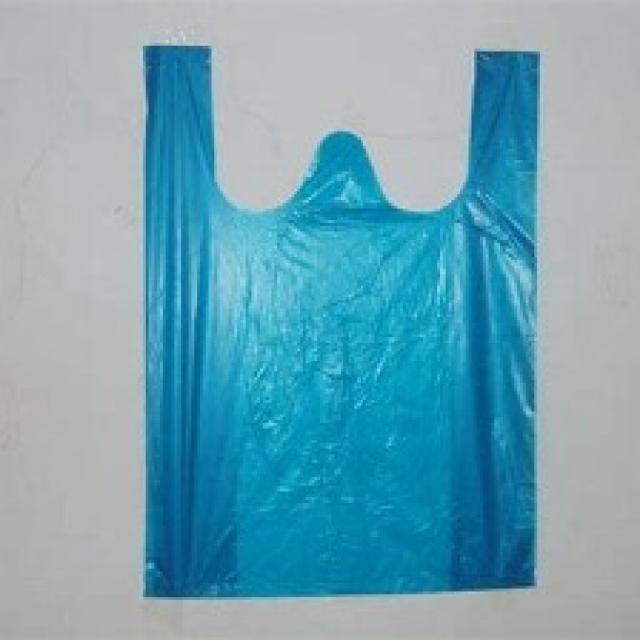plastic_bag: (131, 41, 538, 594)
